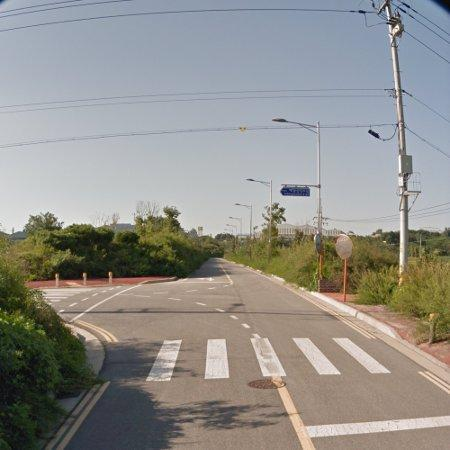crosswalks: (141, 336, 393, 382)
